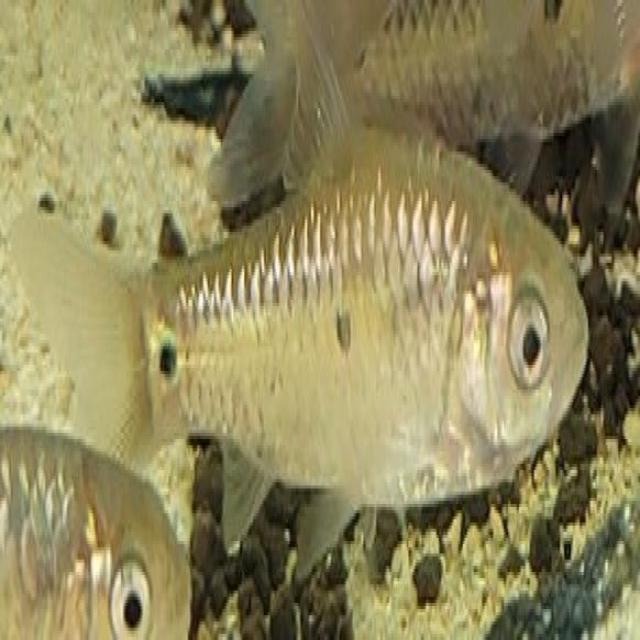Black-Spotted-Barb: (5, 55, 602, 557)
